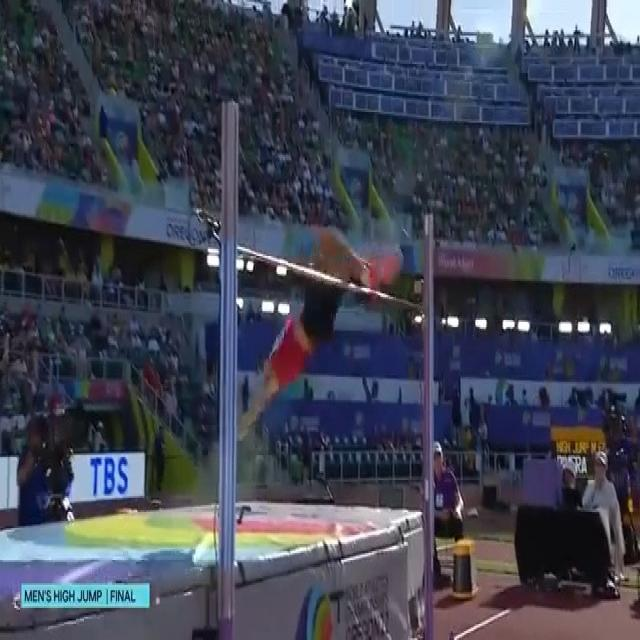jump: (236, 221, 401, 446)
